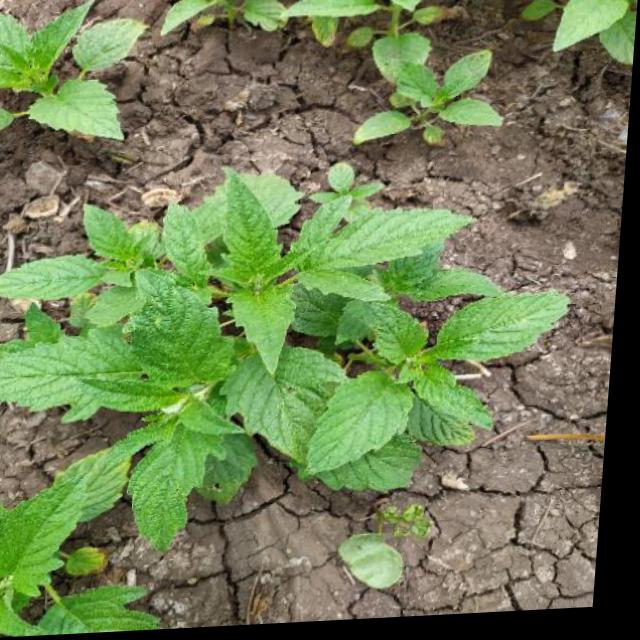crop: (0, 149, 596, 536), (0, 0, 156, 146), (352, 55, 513, 149)
